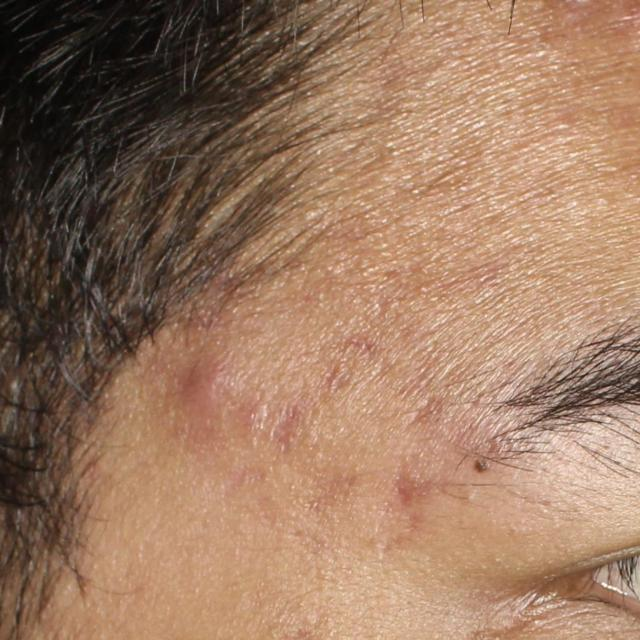nodule: (153, 344, 246, 445)
